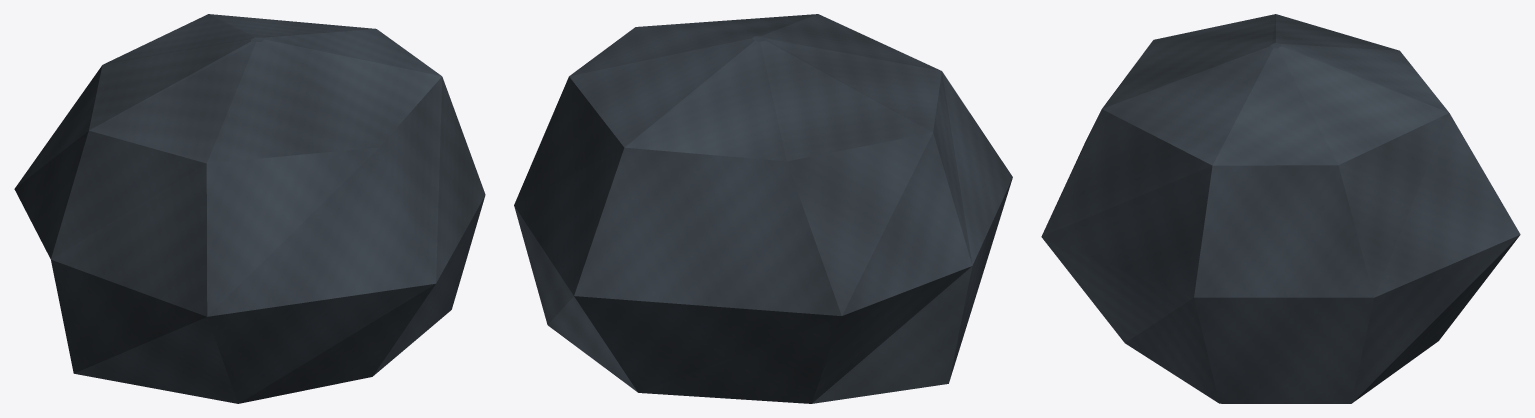
Rendered from Nature_Rock_01.glb.
The picture shows the model from 3 angles, left to right: view 1: azimuth 30°, elevation 25°; view 2: azimuth 150°, elevation 25°; view 3: azimuth 270°, elevation 25°; orthographic projection. The views are drawn at different scales.
Visible parts, largest first — view 1: Nature_Rock_01; view 2: Nature_Rock_01; view 3: Nature_Rock_01.
Boxes of the visible parts, x1=… form: Nature_Rock_01: x1=14, y1=14, x2=485, y2=403; Nature_Rock_01: x1=514, y1=14, x2=1012, y2=403; Nature_Rock_01: x1=1041, y1=14, x2=1520, y2=403.
Bounding box in the file's own units: 0.7043 × 0.53 × 0.768.
1 material, 1 textured.
